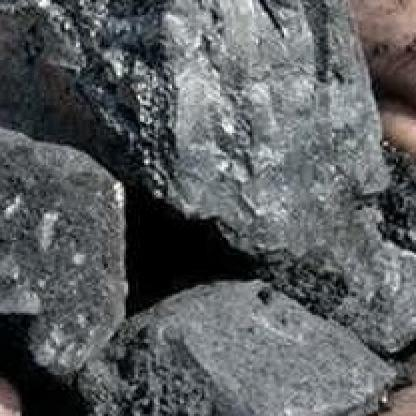Sedimentary_coal: (0, 0, 414, 343), (100, 259, 396, 414), (0, 127, 146, 346)
